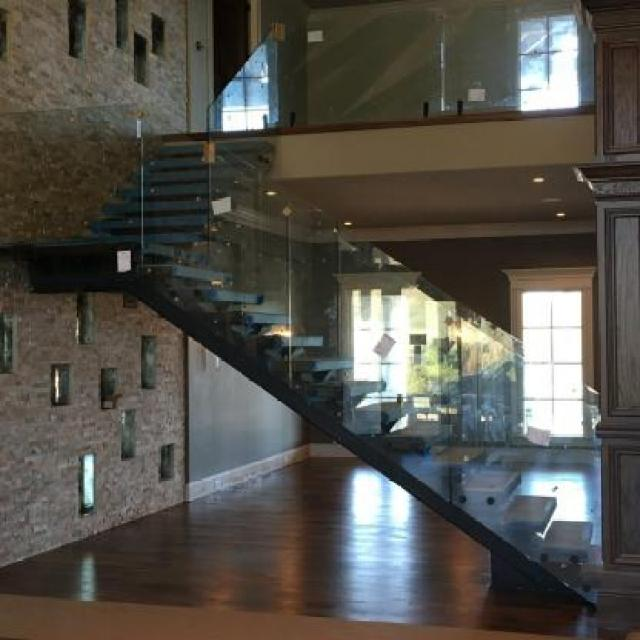Floor: (0, 456, 639, 639)
